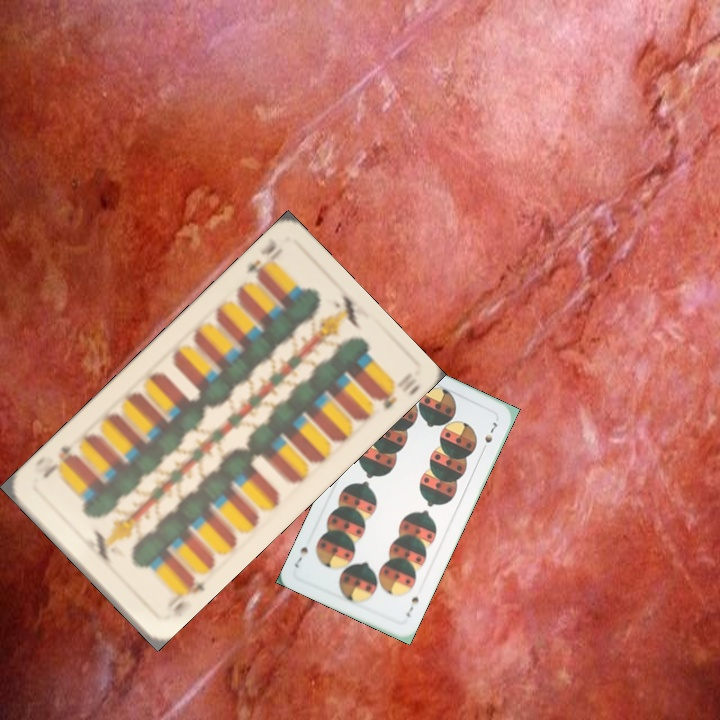E10: (159, 571, 208, 623), (242, 236, 279, 284)
S7: (402, 592, 422, 620)
